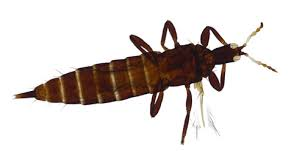Phlaeothripidae: (14, 18, 278, 146)
